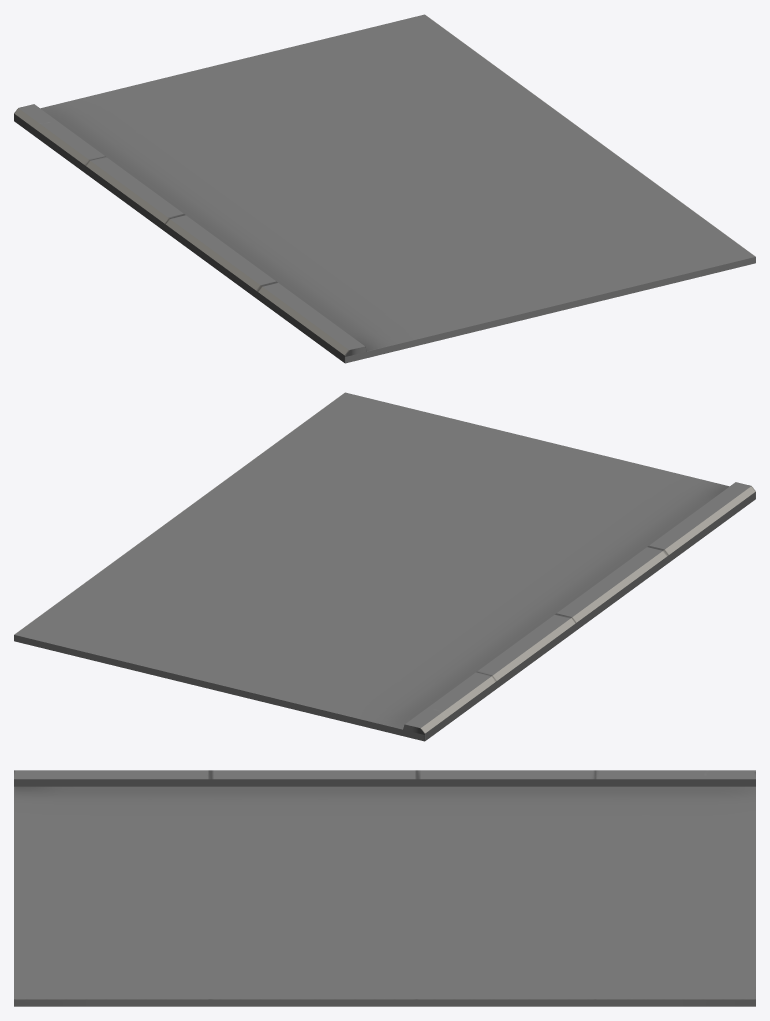
File: houseAndBuildingPlatform3.obj
3 views of the same model, one above another, from view 1: azimuth 30°, elevation 25°; view 2: azimuth 150°, elevation 25°; view 3: azimuth 270°, elevation 25° (orthographic). The views are drawn at different scales.
Parts seen in each view (by area): view 1: Plane.006; view 2: Plane.006; view 3: Plane.006.
Part boxes in pixels (bbox=[...]): Plane.006: bbox=[14, 14, 755, 363]; Plane.006: bbox=[14, 392, 755, 741]; Plane.006: bbox=[14, 770, 755, 1006].
Size of the model in its own units: 8.66 by 0.2455 by 12.08.
